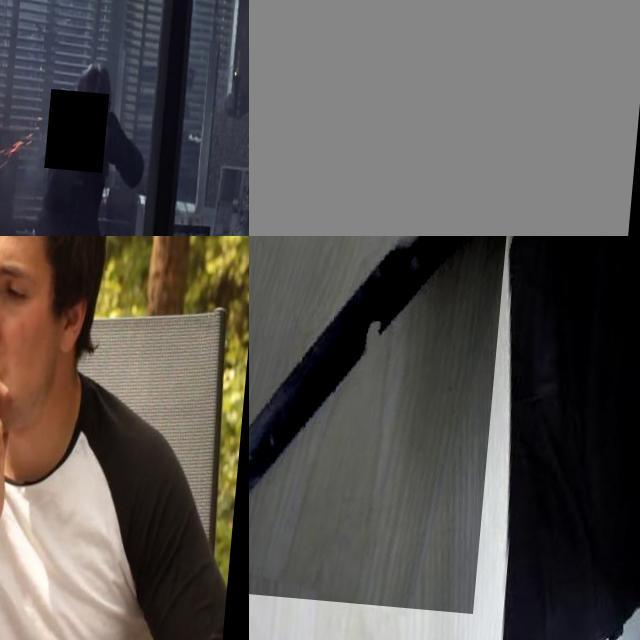-: (249, 236, 515, 606), (0, 388, 48, 600)
gun-knife-thesis - v11 Yolov5 augmented: (249, 0, 640, 236), (52, 85, 115, 168)
